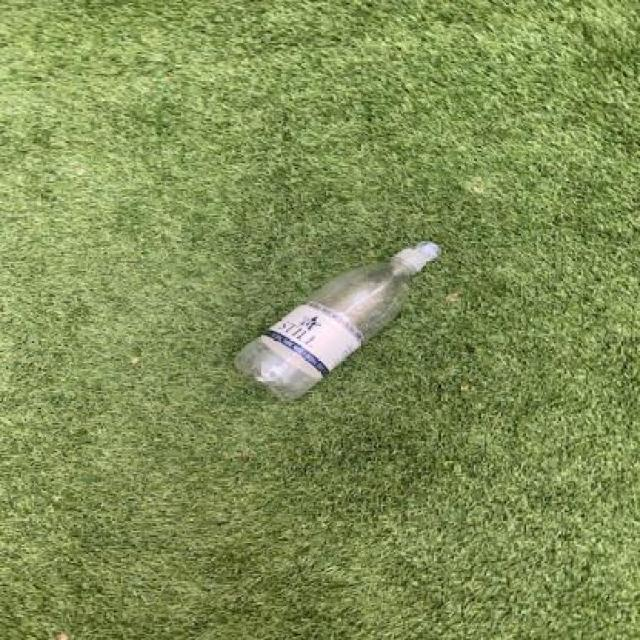trash: (230, 242, 442, 402)
